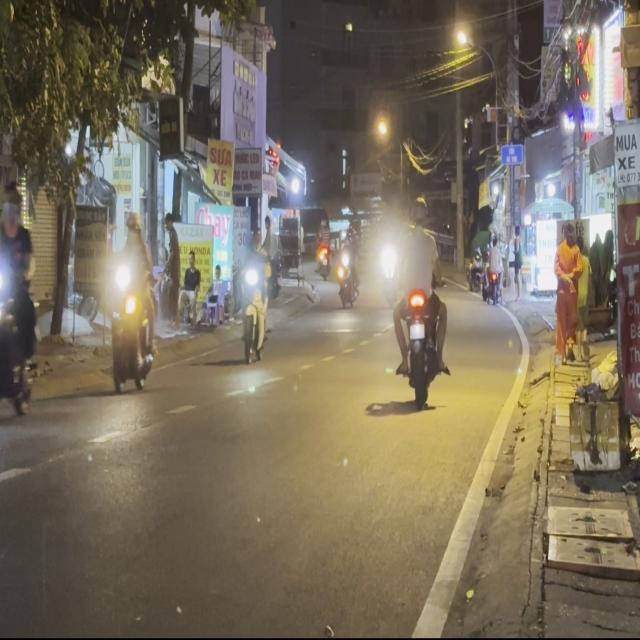helmet: (0, 177, 24, 227), (124, 208, 141, 239), (411, 194, 428, 225)
licenseplate: (388, 193, 449, 405), (0, 175, 46, 418), (108, 205, 158, 396)
nohelmet: (409, 322, 424, 338)
